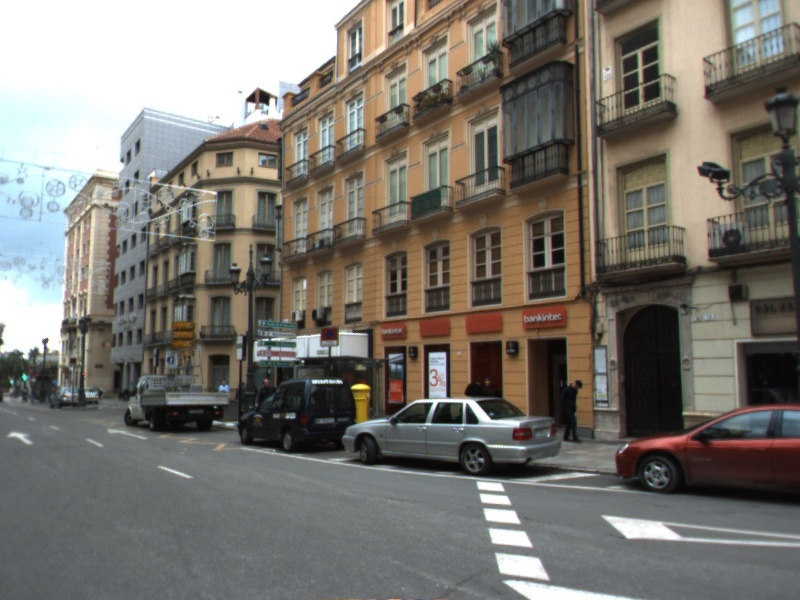STRAIGHT: (105, 425, 150, 442), (4, 429, 37, 447)
